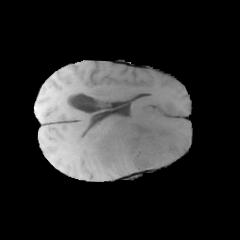glioma: (90, 97, 190, 173)
